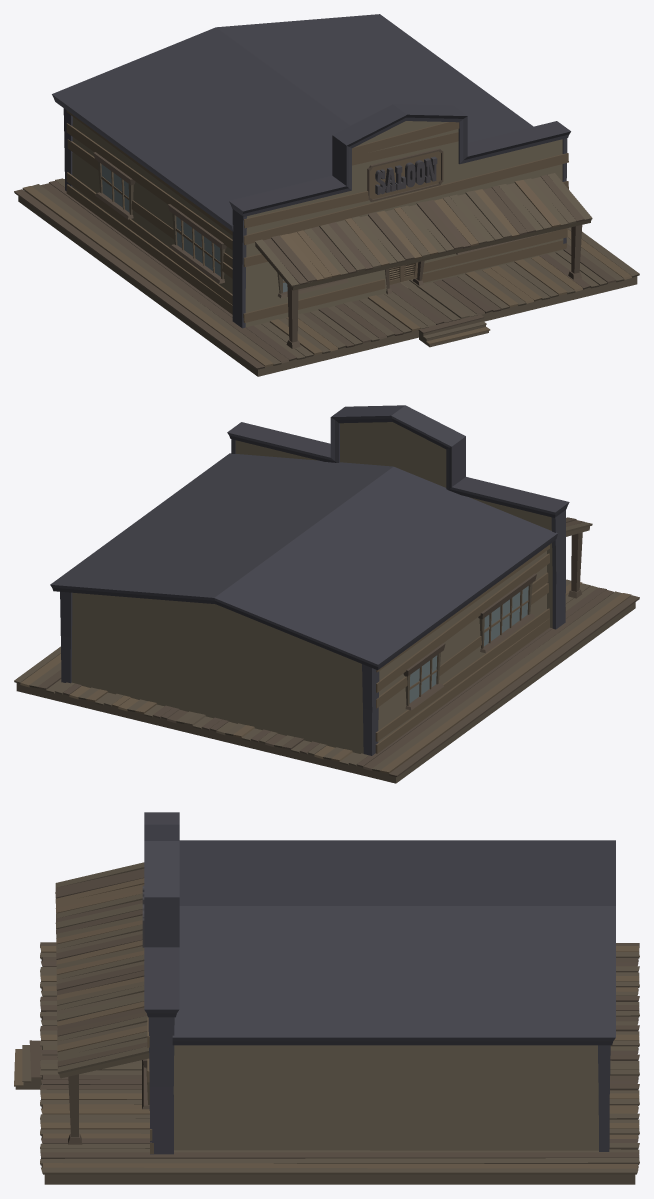
The picture shows the model from 3 angles, top to bottom: view 1: azimuth 30°, elevation 25°; view 2: azimuth 150°, elevation 25°; view 3: azimuth 270°, elevation 25°; orthographic projection. The views are drawn at different scales.
Parts seen in each view (by area): view 1: MSH_saloon_muro_esterno, MSH_saloon_interno; view 2: MSH_saloon_muro_esterno, MSH_saloon_interno; view 3: MSH_saloon_muro_esterno, MSH_saloon_interno.
Boxes of the visible parts, x1=… form: MSH_saloon_muro_esterno: x1=52, y1=14, x2=592, y2=348; MSH_saloon_interno: x1=14, y1=108, x2=639, y2=376; MSH_saloon_muro_esterno: x1=50, y1=405, x2=592, y2=753; MSH_saloon_interno: x1=14, y1=579, x2=639, y2=783; MSH_saloon_muro_esterno: x1=55, y1=812, x2=615, y2=1154; MSH_saloon_interno: x1=14, y1=942, x2=639, y2=1184.
Bounding box in the file's own units: 238 × 111 × 273.
